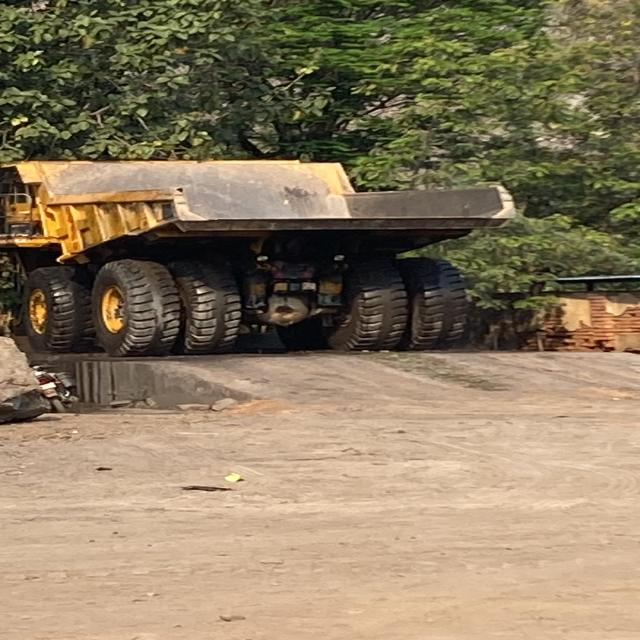dump_truck: (0, 155, 535, 349)
